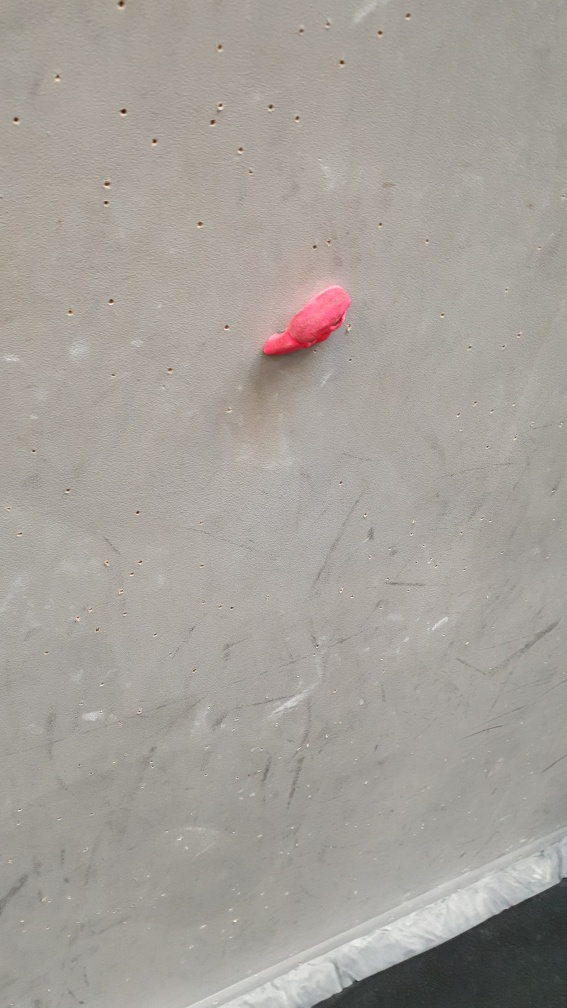Jug: (257, 281, 358, 361)
